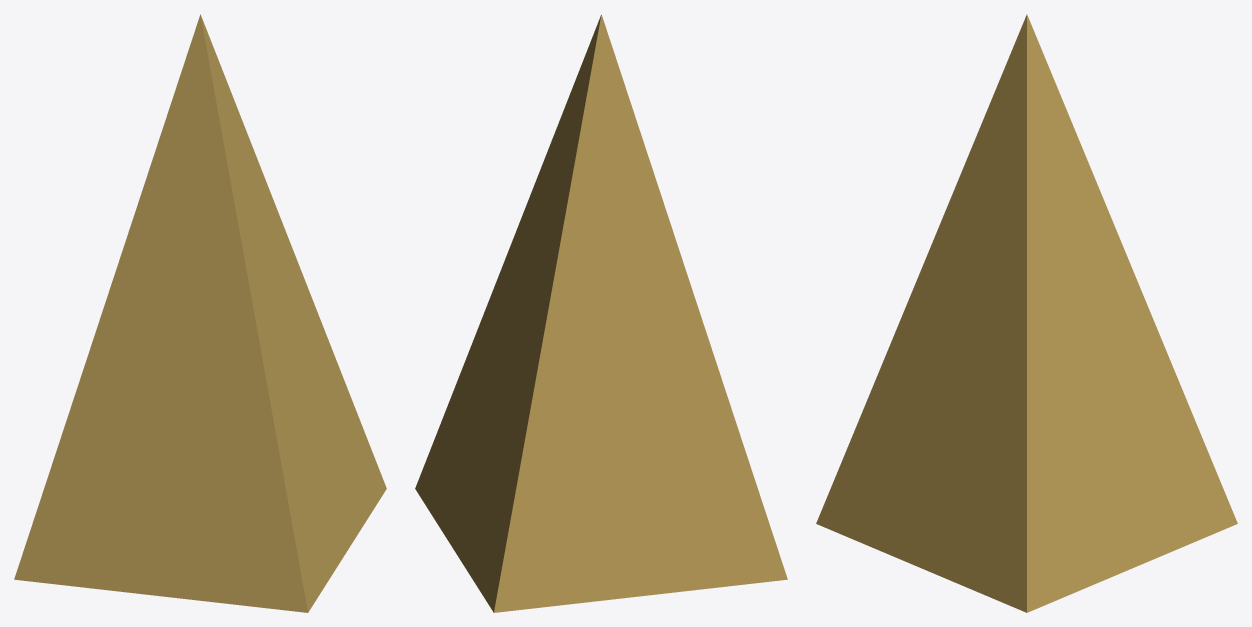
File: acc_hat_priest.glb
3 renders of one model, left to right at view 1: azimuth 30°, elevation 25°; view 2: azimuth 150°, elevation 25°; view 3: azimuth 270°, elevation 25°, orthographic. The views are drawn at different scales.
Parts seen in each view (by area): view 1: acc_hat_priest; view 2: acc_hat_priest; view 3: acc_hat_priest.
Part boxes in pixels (left/top/right/bottom): acc_hat_priest: left=14, top=14, right=386, bottom=612; acc_hat_priest: left=415, top=14, right=787, bottom=612; acc_hat_priest: left=816, top=14, right=1237, bottom=612.
Bounding box in the file's own units: 0.48 × 0.64 × 0.48.
1 material, 1 textured.
